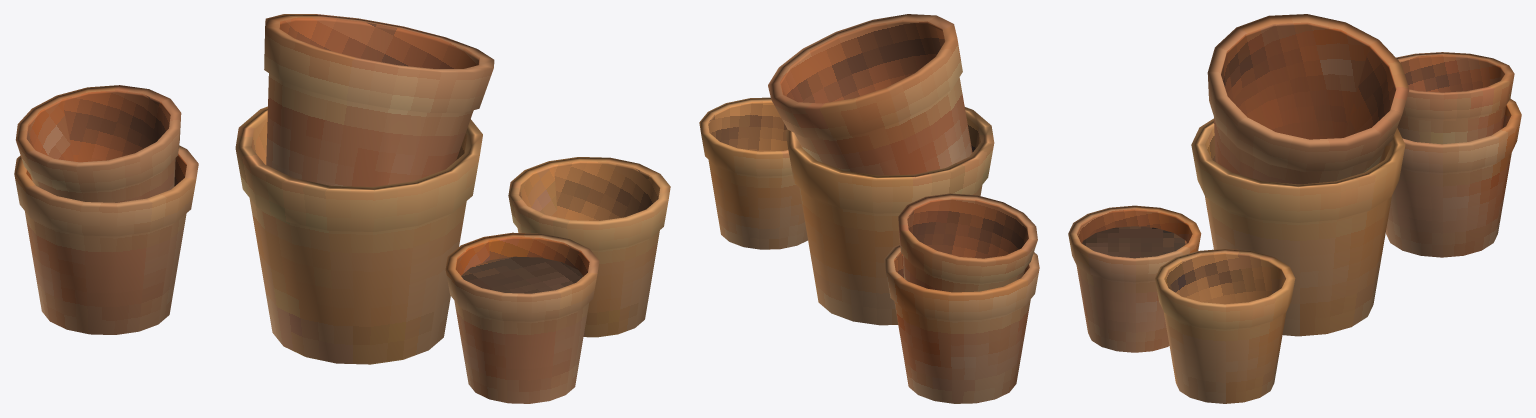
File: objects_un_t01flowerpots11.gltf
3 renders of one model, left to right at view 1: azimuth 30°, elevation 25°; view 2: azimuth 150°, elevation 25°; view 3: azimuth 270°, elevation 25°, orthographic. The views are drawn at different scales.
Parts seen in each view (by area): view 1: objects_un_t01flowerpots11_mesh_shape:objects_un_t01flowerpo (×3); view 2: objects_un_t01flowerpots11_mesh_shape:objects_un_t01flowerpo (×3); view 3: objects_un_t01flowerpots11_mesh_shape:objects_un_t01flowerpo (×3).
Part boxes in pixels (left/top/right/bottom): objects_un_t01flowerpots11_mesh_shape:objects_un_t01flowerpo (×3): left=14, top=14, right=670, bottom=403; objects_un_t01flowerpots11_mesh_shape:objects_un_t01flowerpo (×3): left=699, top=14, right=1039, bottom=403; objects_un_t01flowerpots11_mesh_shape:objects_un_t01flowerpo (×3): left=1068, top=14, right=1521, bottom=403.
Size of what is drawn, in the model's own units: 0.88 by 0.507 by 0.7936.
3 materials, 3 textured.
